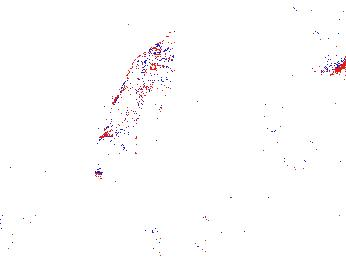X-ray fish: (104, 34, 178, 143)
